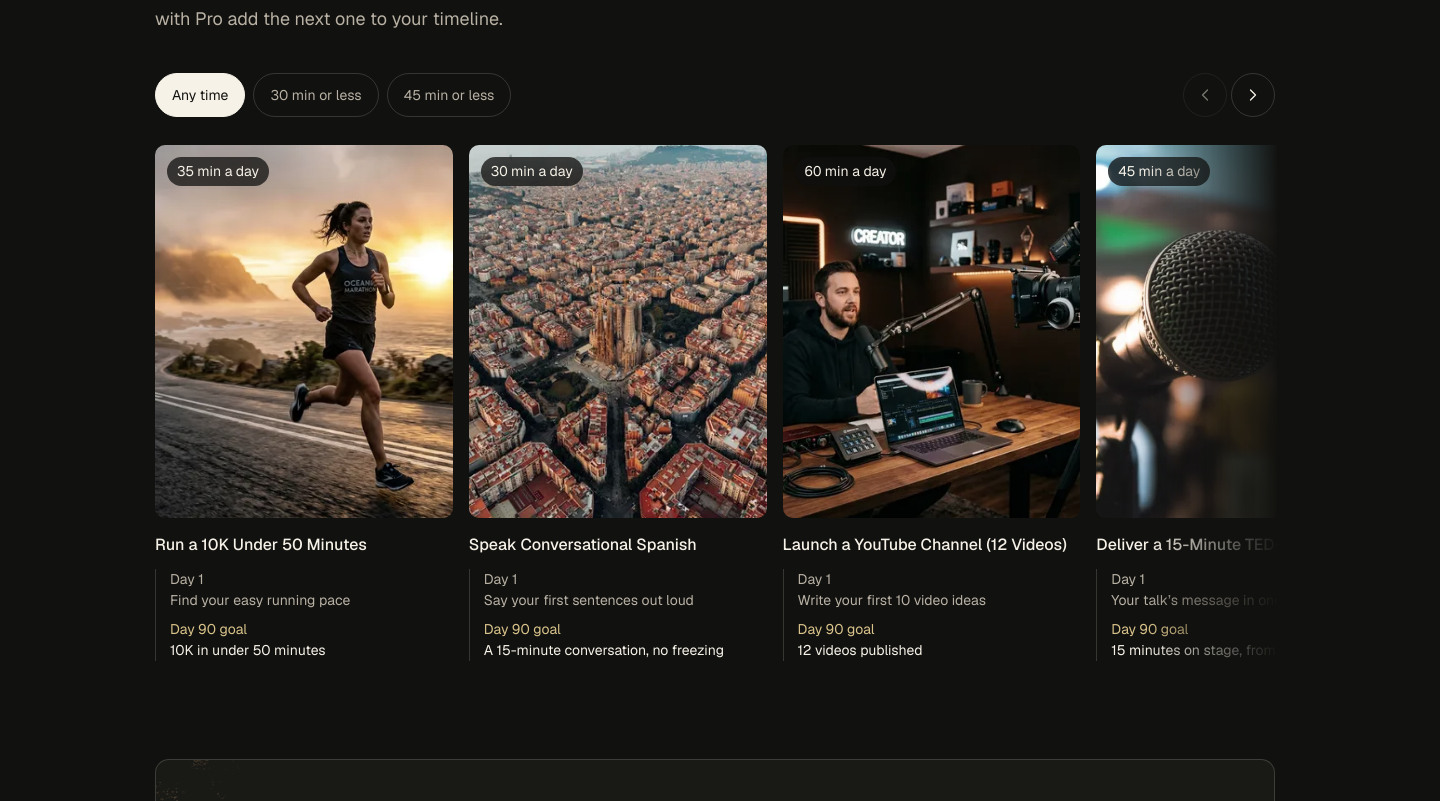
landing Pathways › a goal card opens the plan preview: two questions, then that visitor’s plan, saved for sign-up
Later steps or results of the test are not shown.
(page scrolled)
Click the button "Run a 10K Under 50 Minutes" at [304, 403], box [155,146,453,661]
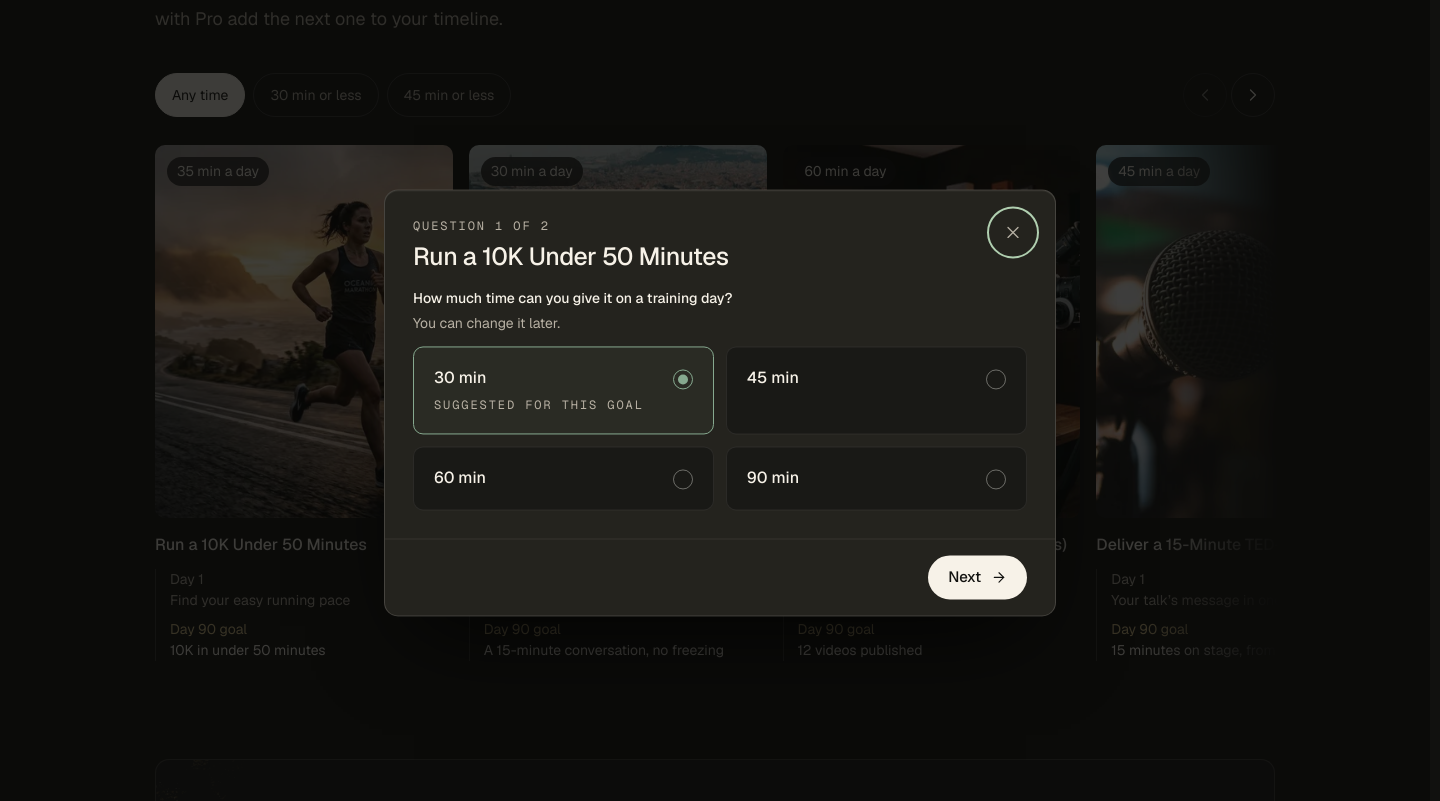
Expected: the radio button labelled "30 min Suggested for this goal" is checked, [413,346,714,435]
Click the button "Next" at [978, 578], box [928,556,1027,600]
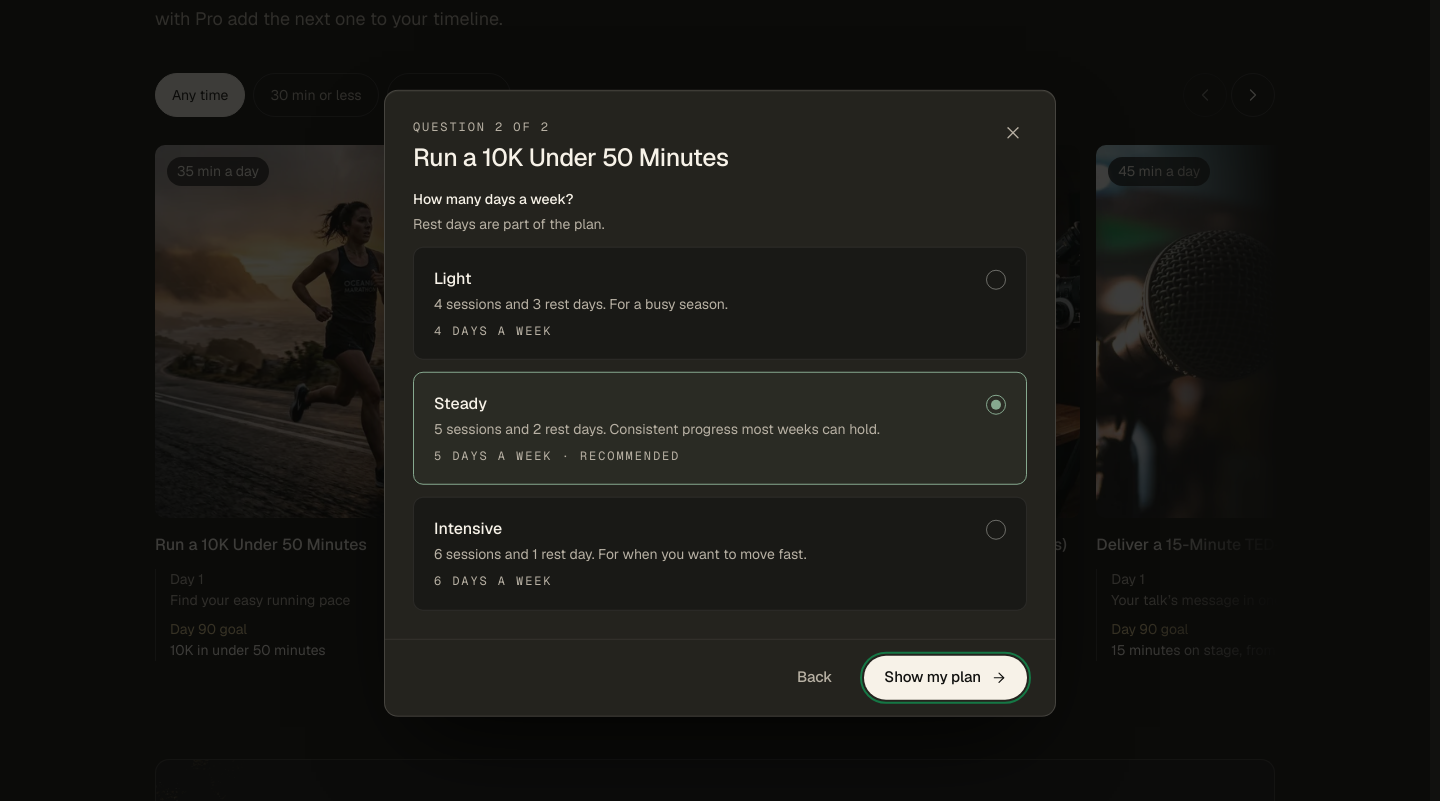
Expected: the radio button labelled "Steady" is checked, [413,372,1027,485]
Click the radio button labelled "Intensive" at [720, 554], box [413,497,1027,610]
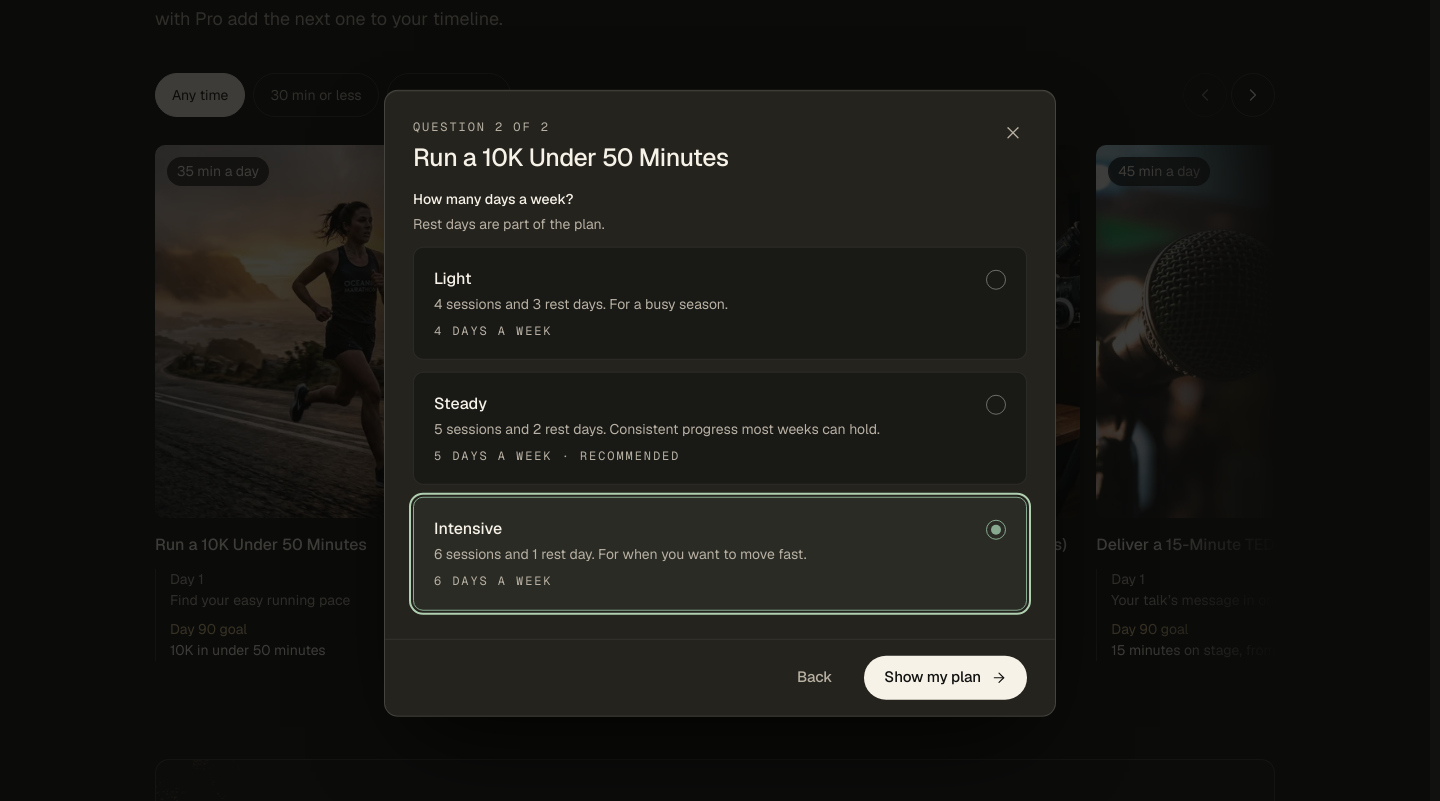
Click the button "Show my plan" at [946, 677], box [864,655,1027,699]
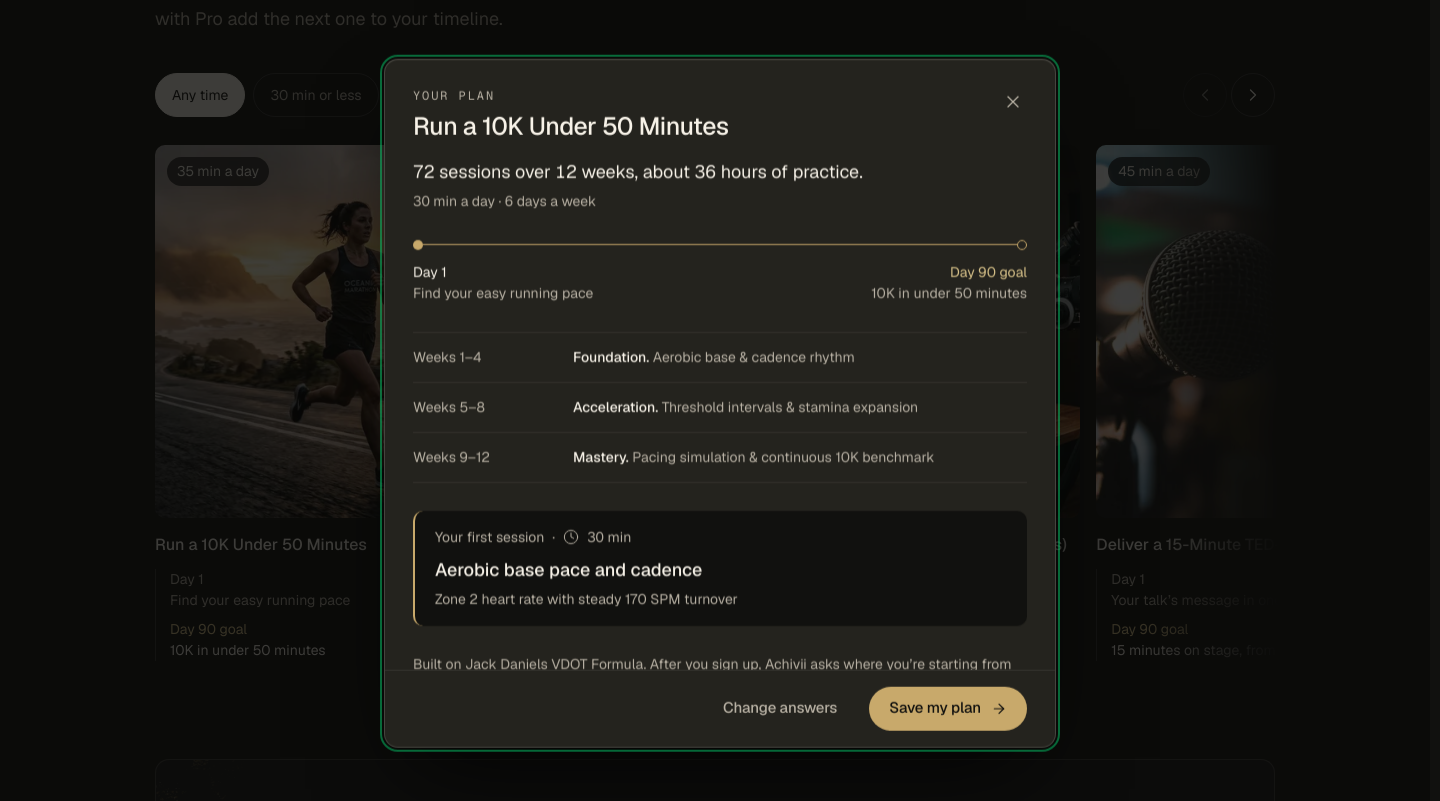
Expected: the dialog "Run a 10K Under 50 Minutes" shows "72 sessions over 12 weeks, about 36 hours of practice.", [384,59,1056,747]
Expected: the dialog "Run a 10K Under 50 Minutes" shows "Find your easy running pace", [413,284,593,302]
Expected: the dialog "Run a 10K Under 50 Minutes" shows "10K in under 50 minutes", [871,284,1027,302]
